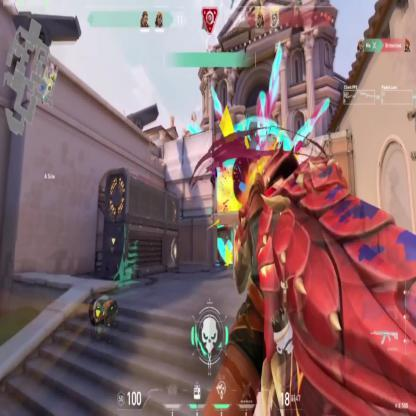enemy: (209, 158, 217, 190)
enemy_head: (210, 157, 215, 167)
